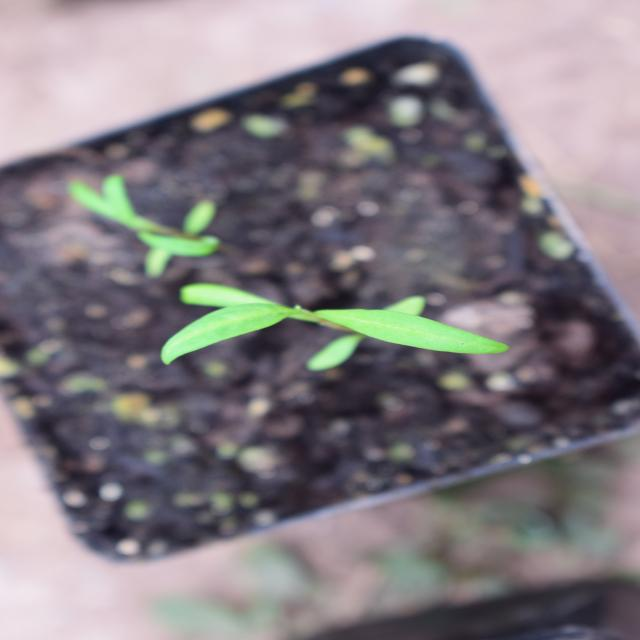white_smart_weed: (251, 144, 416, 520)
